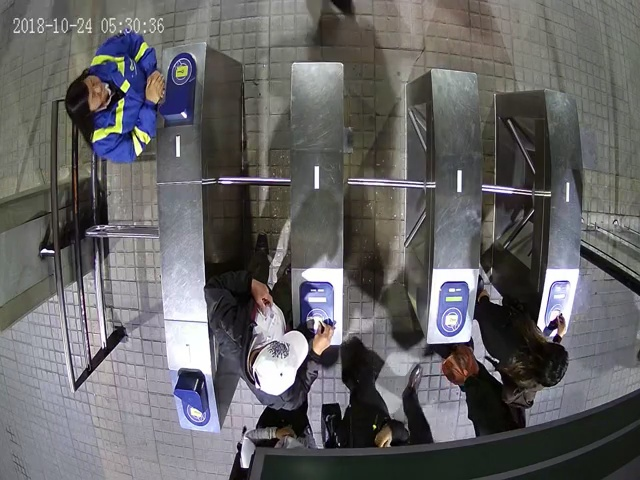Chaleco_azul: (65, 30, 168, 164)
